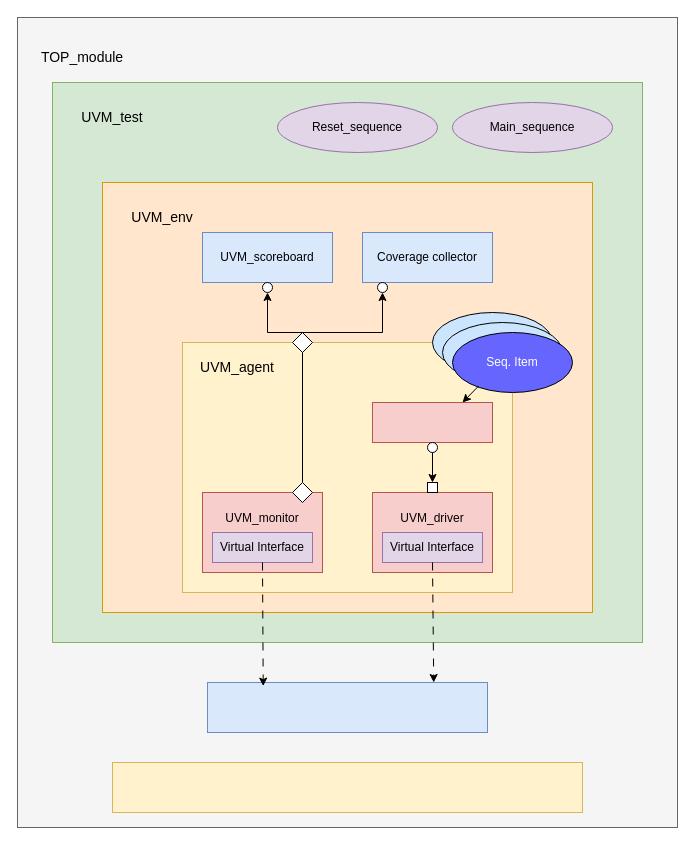
The diagram is 695 pixels wide and 845 high, and some of its shapes have lost their labels. The centre of each missing label's shape, as x and y in pixels:
"DUT" belongs at [347,787].
"Interface" belongs at [347,707].
"UVM_sequencer" belongs at [432,422].
